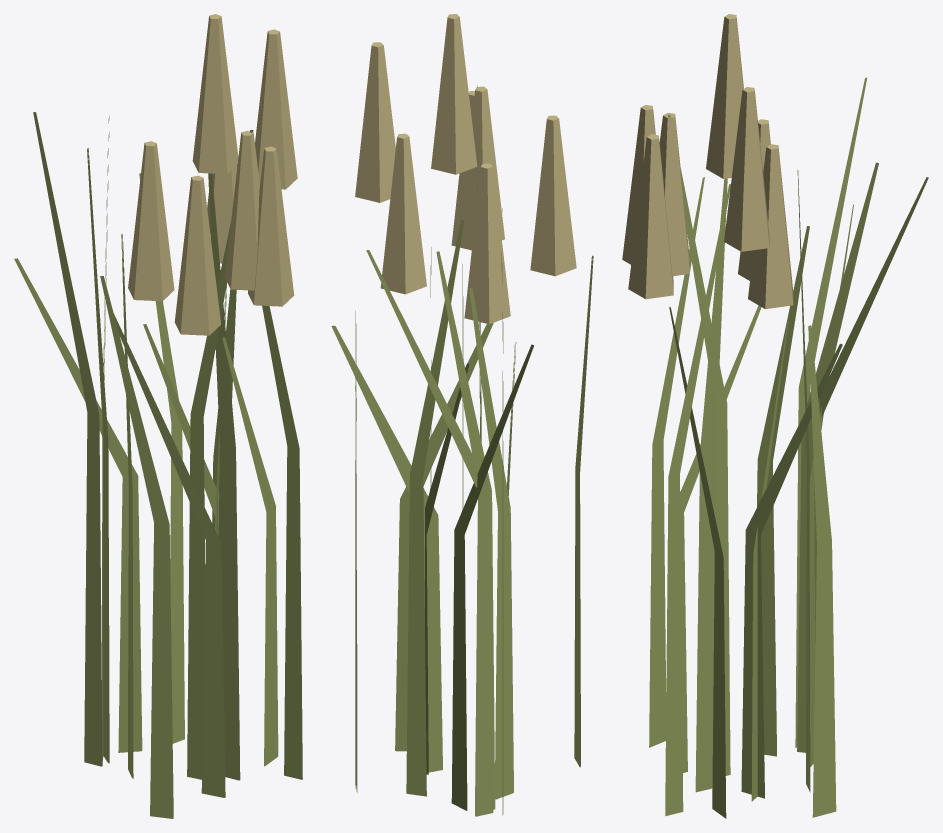
File: SM_Grass_Reed.fbx
The picture shows the model from 3 angles, left to right: view 1: azimuth 30°, elevation 25°; view 2: azimuth 150°, elevation 25°; view 3: azimuth 270°, elevation 25°; orthographic projection. The views are drawn at different scales.
Parts seen in each view (by area): view 1: SM_Grass_Reed; view 2: SM_Grass_Reed; view 3: SM_Grass_Reed.
Boxes of the visible parts, x1,y1,x2,y2 form: SM_Grass_Reed: (14, 14, 302, 818); SM_Grass_Reed: (331, 14, 593, 816); SM_Grass_Reed: (622, 14, 928, 818).
Size of the model in its own units: 0.4833 by 1.52 by 0.5474.
